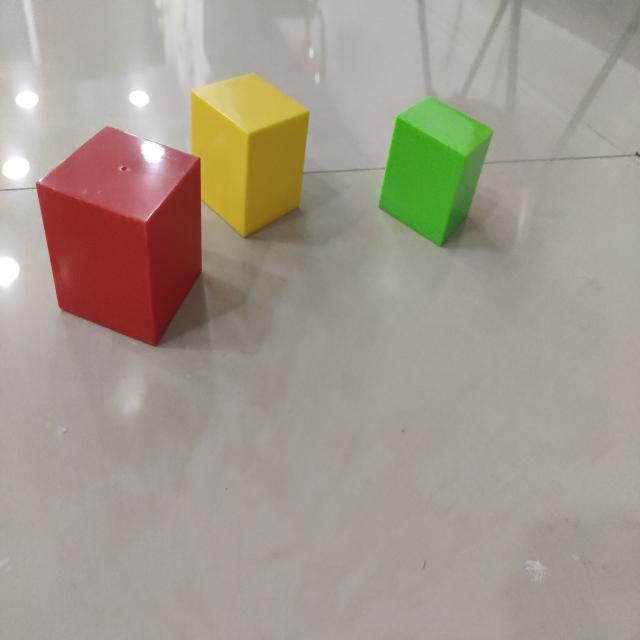green: (378, 99, 493, 248)
red: (35, 128, 203, 348)
yellow: (191, 74, 310, 239)
